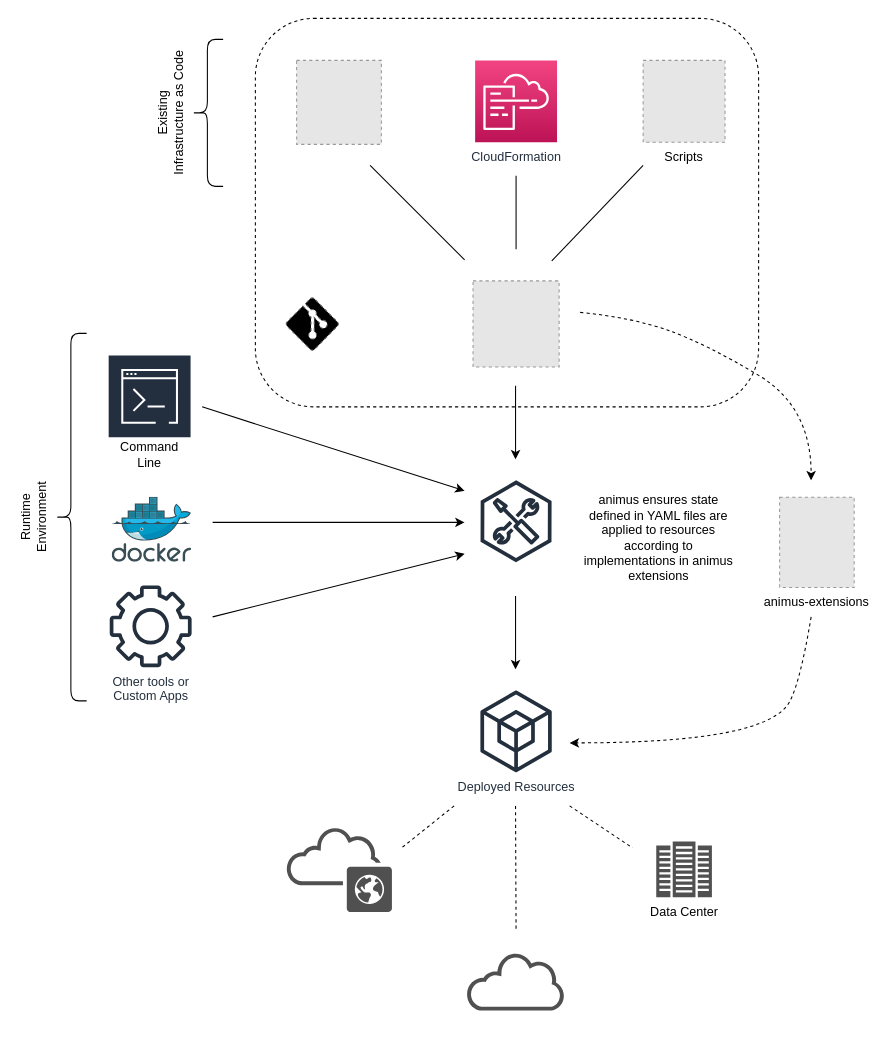
This 888x1051 diagram has some shape labels left out. Grey dashed boxes stand in for pictures. The centre of each missing label's shape, as x and y in pixels:
"Animus" belongs at (x=515, y=521).
"Private Cloud" belongs at (x=515, y=981).
"Public Cloud" belongs at (x=338, y=868).
"Version Control" belongs at (x=312, y=323).
